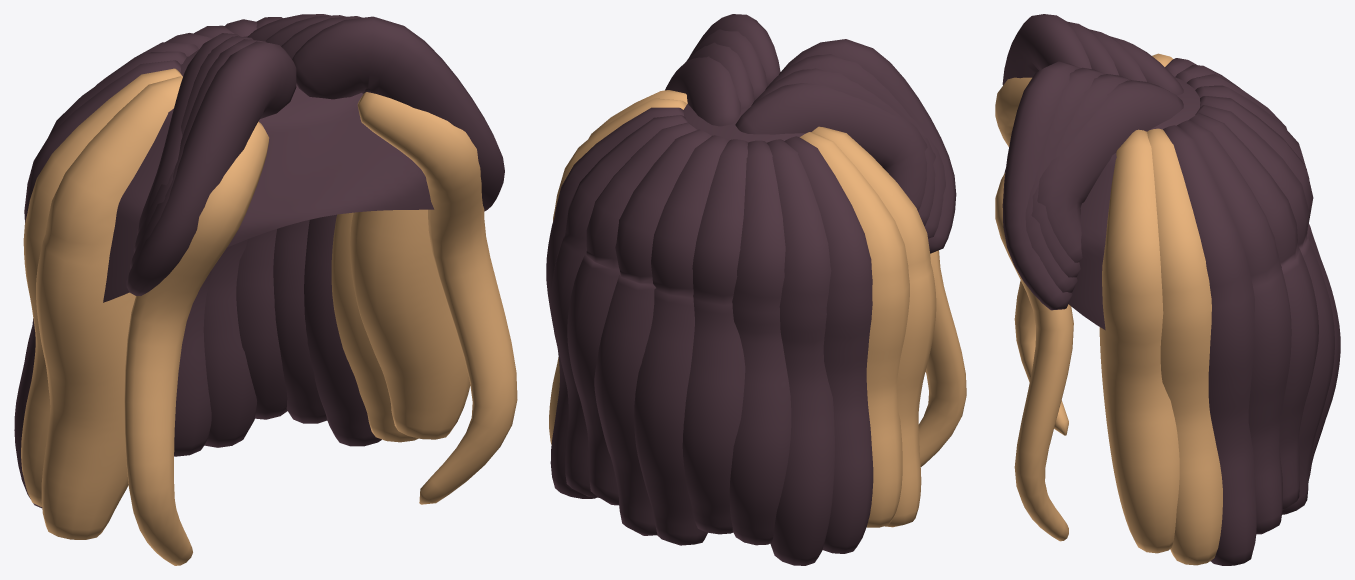
Rendered from studio_lob_long.glb.
3 renders of one model, left to right at view 1: azimuth 30°, elevation 25°; view 2: azimuth 150°, elevation 25°; view 3: azimuth 270°, elevation 25°, orthographic. The views are drawn at different scales.
Visible parts, largest first — view 1: lob; view 2: lob; view 3: lob.
Boxes of the visible parts, bbox=[...] form: lob: bbox=[14, 14, 517, 565]; lob: bbox=[546, 14, 966, 565]; lob: bbox=[995, 14, 1340, 565].
Bounding box in the file's own units: 0.5776 × 0.6628 × 0.4543.
